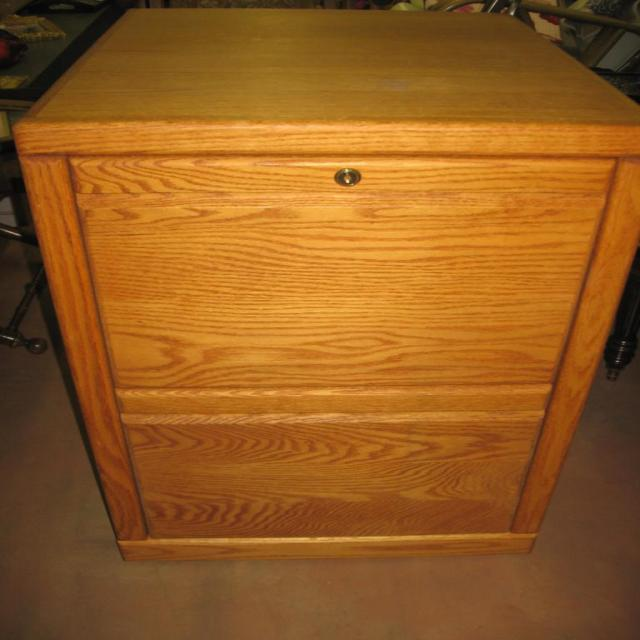Box: (11, 8, 640, 561)
